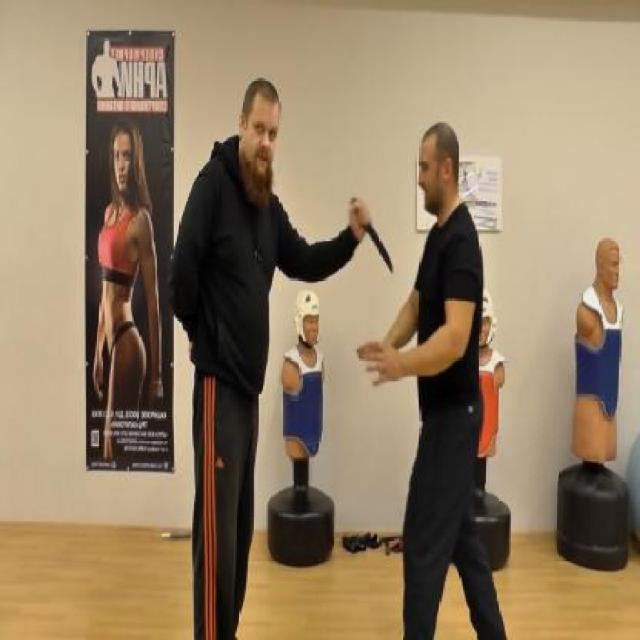knife: (346, 192, 397, 277)
